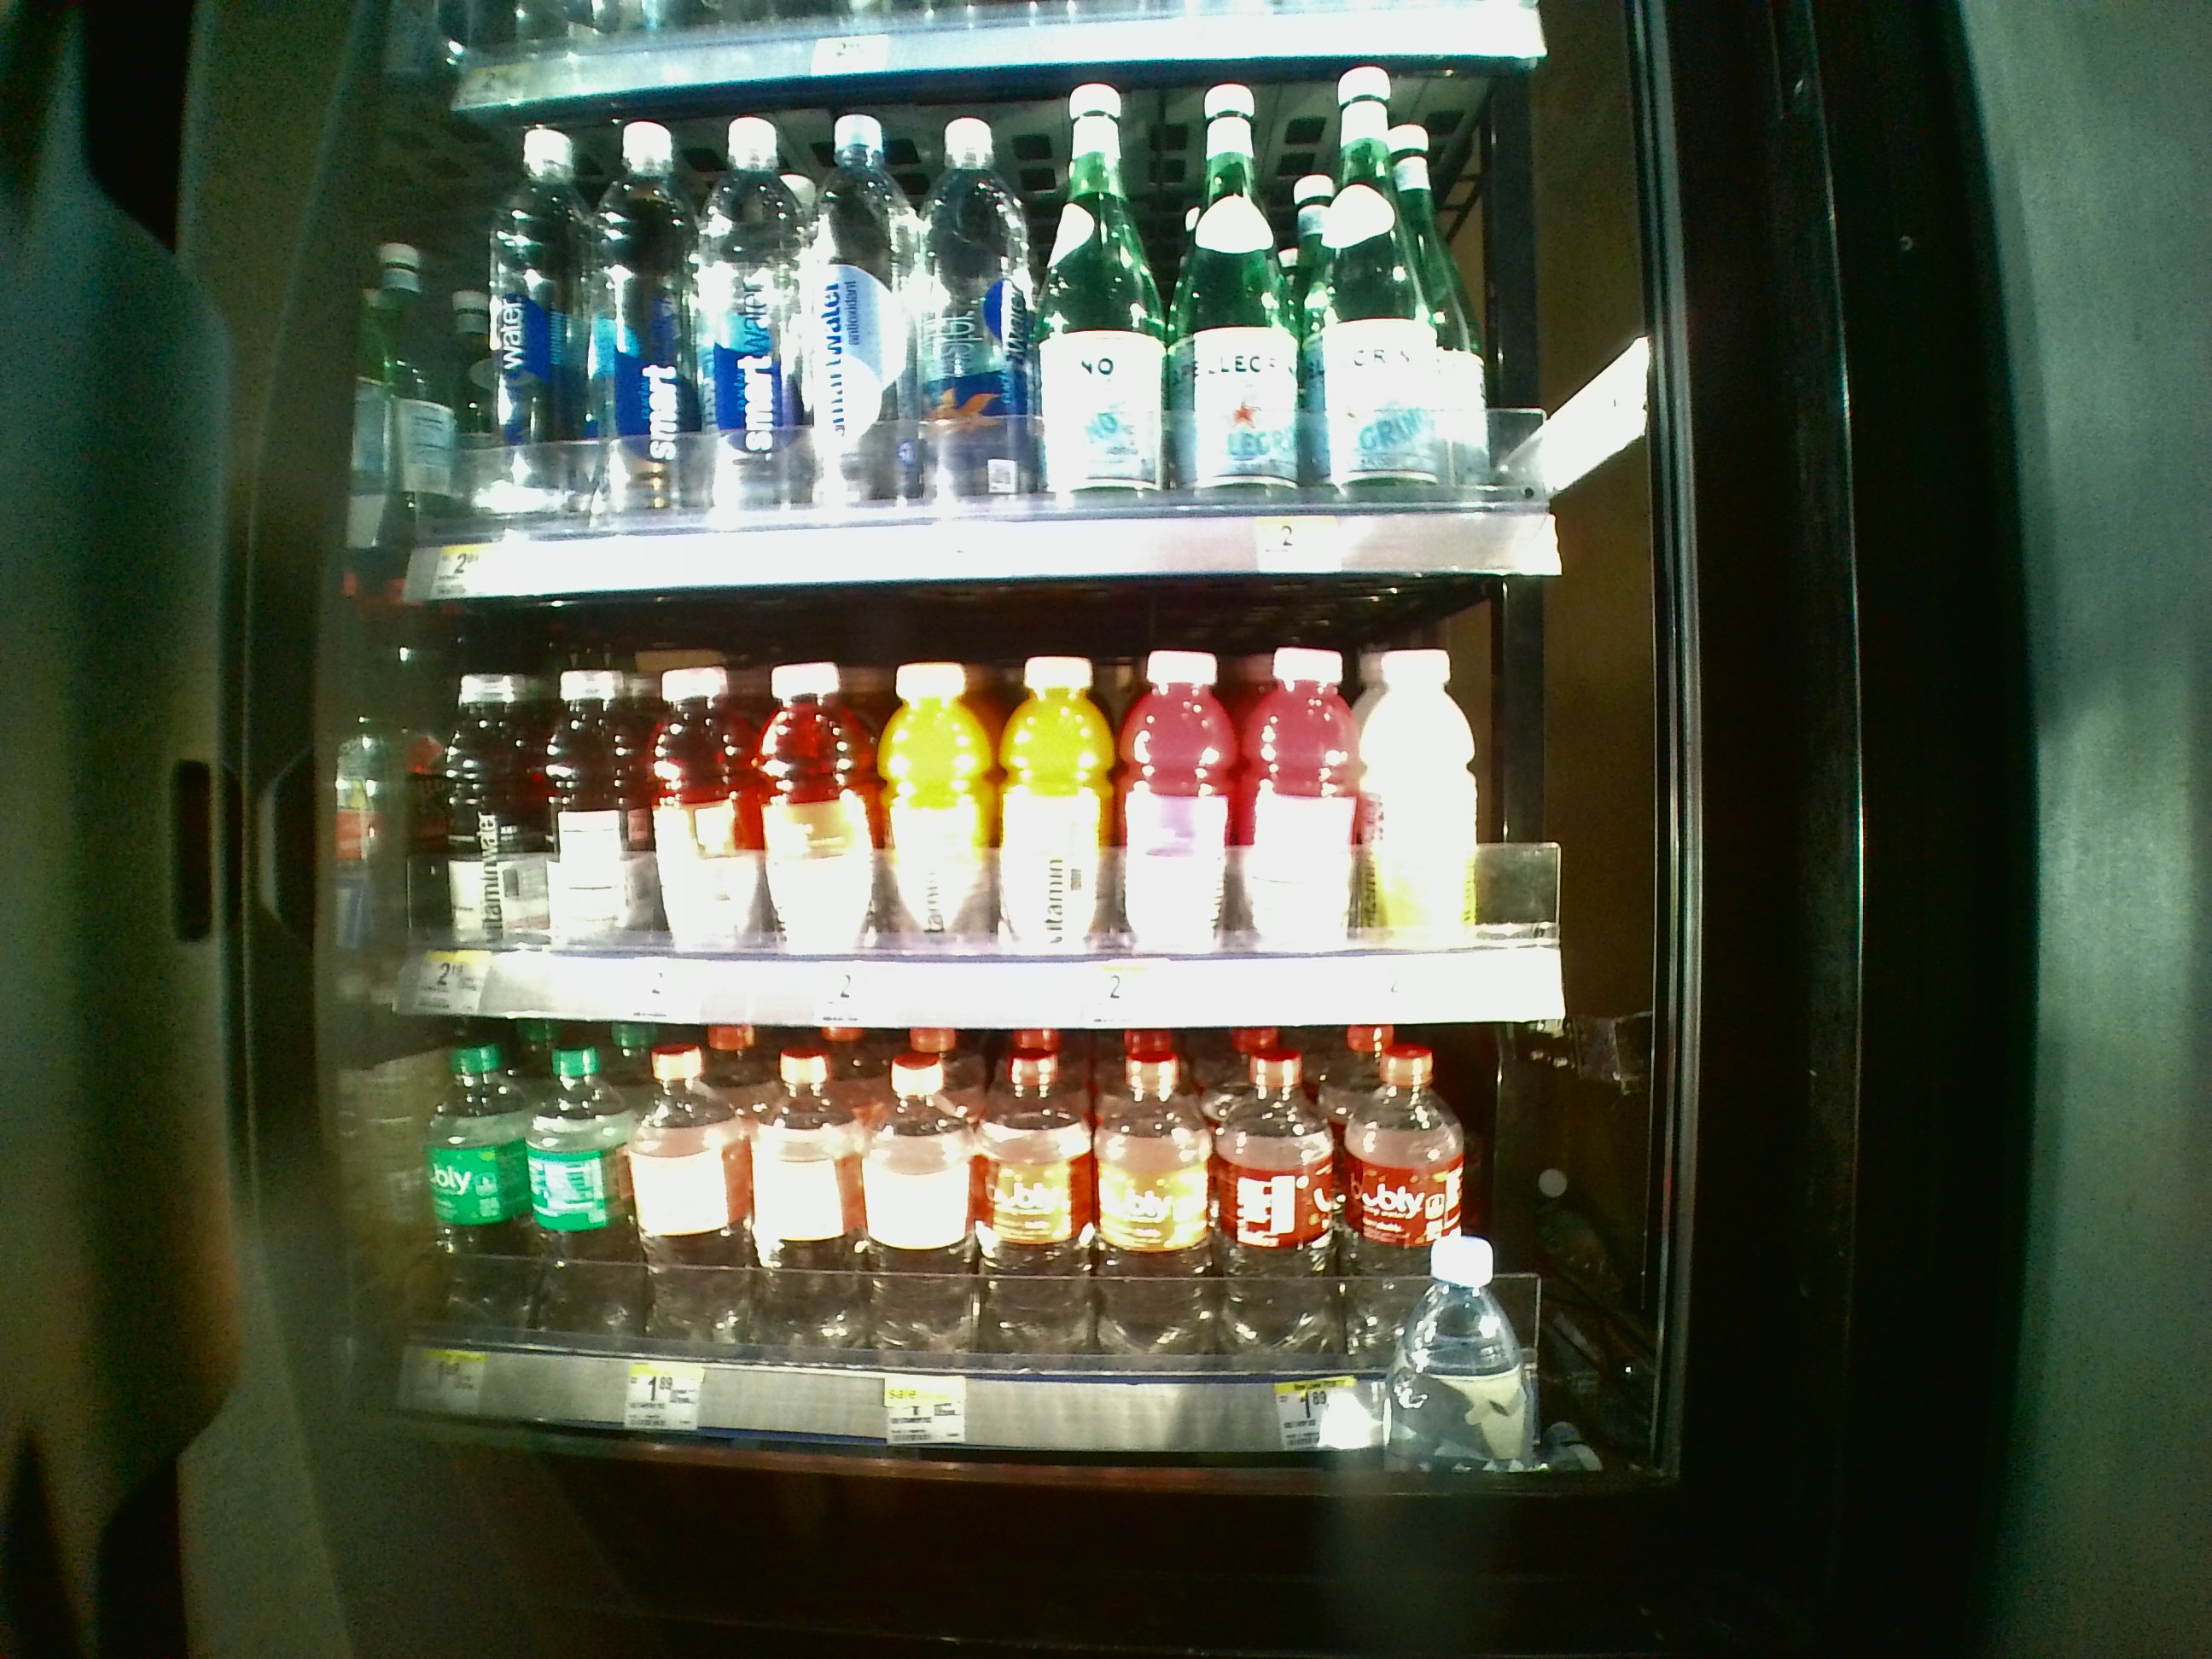shelf: (371, 1018, 1635, 1459), (374, 596, 1634, 1019)
